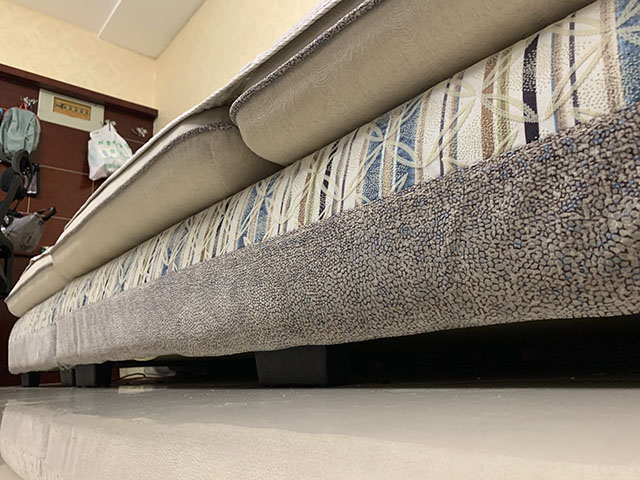sofa: (3, 1, 640, 391)
